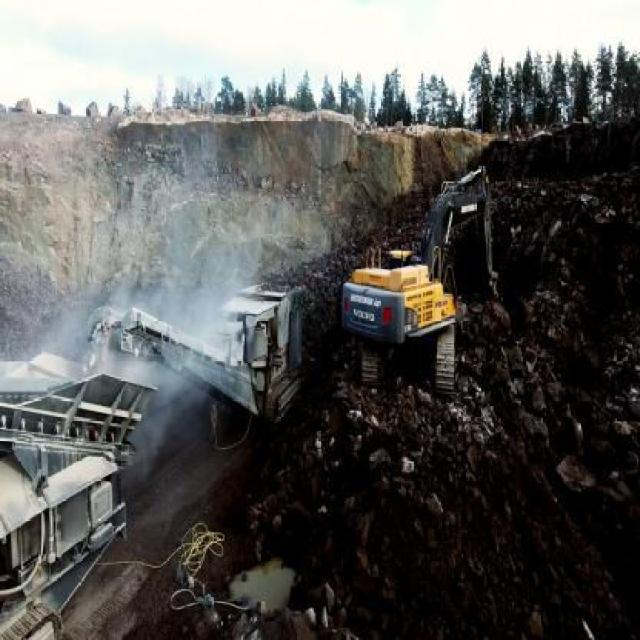excavator: (345, 159, 500, 387)
